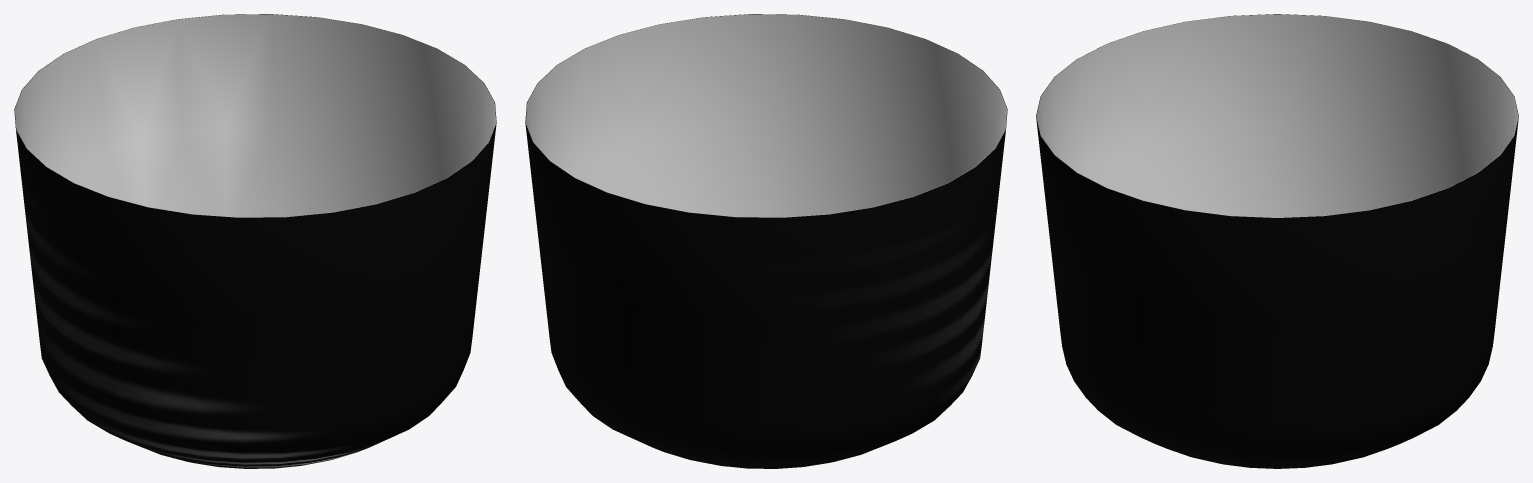
Rendered from p_mesh_plasmadrill_laserbeam_diameter_pose0.fbx.
3 renders of one model, left to right at view 1: azimuth 30°, elevation 25°; view 2: azimuth 150°, elevation 25°; view 3: azimuth 270°, elevation 25°, orthographic.
Parts seen in each view (by area): view 1: plasmadrill_diameter_pose0; view 2: plasmadrill_diameter_pose0; view 3: plasmadrill_diameter_pose0.
Boxes of the visible parts, box(x1,y1,x2,y2) form: plasmadrill_diameter_pose0: box(14, 14, 496, 468); plasmadrill_diameter_pose0: box(525, 14, 1007, 468); plasmadrill_diameter_pose0: box(1036, 14, 1518, 468).
Size of the model in its own units: 31.11 by 22.36 by 31.11.
